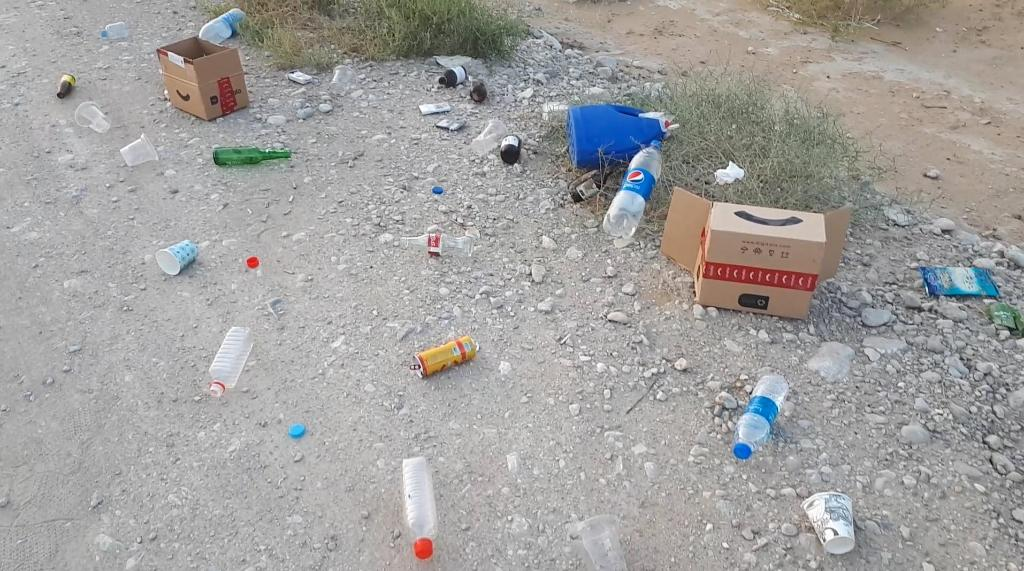garbage: (665, 181, 861, 314), (151, 39, 278, 125), (380, 442, 458, 566), (562, 103, 685, 172), (565, 105, 669, 169), (615, 125, 669, 245), (796, 482, 872, 567), (602, 139, 663, 240), (202, 314, 265, 411), (741, 347, 789, 465), (397, 327, 489, 385), (392, 221, 493, 271), (733, 374, 789, 460), (918, 262, 1010, 308), (399, 456, 439, 559), (150, 225, 210, 289), (205, 138, 309, 174), (438, 64, 503, 115), (208, 327, 253, 398), (410, 336, 476, 378), (400, 233, 475, 257), (198, 8, 247, 44), (568, 167, 613, 203), (121, 140, 173, 169), (213, 146, 291, 165), (53, 64, 84, 108), (92, 21, 144, 46), (500, 134, 521, 164), (439, 65, 468, 86), (102, 21, 127, 39), (57, 74, 75, 99), (470, 79, 488, 102)
